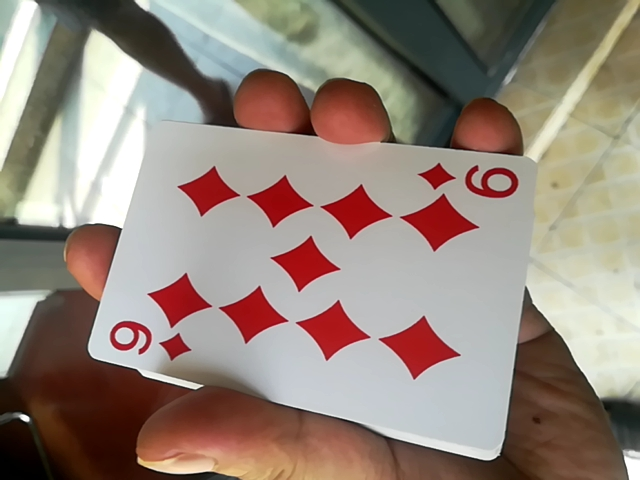fk 9: (82, 98, 532, 463)
